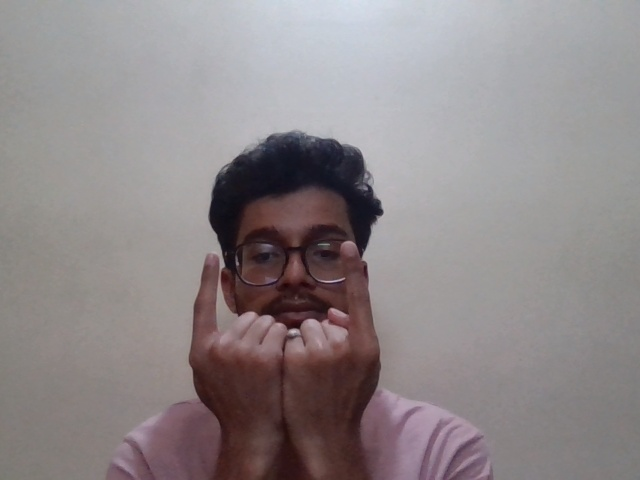when: (189, 245, 387, 429)
